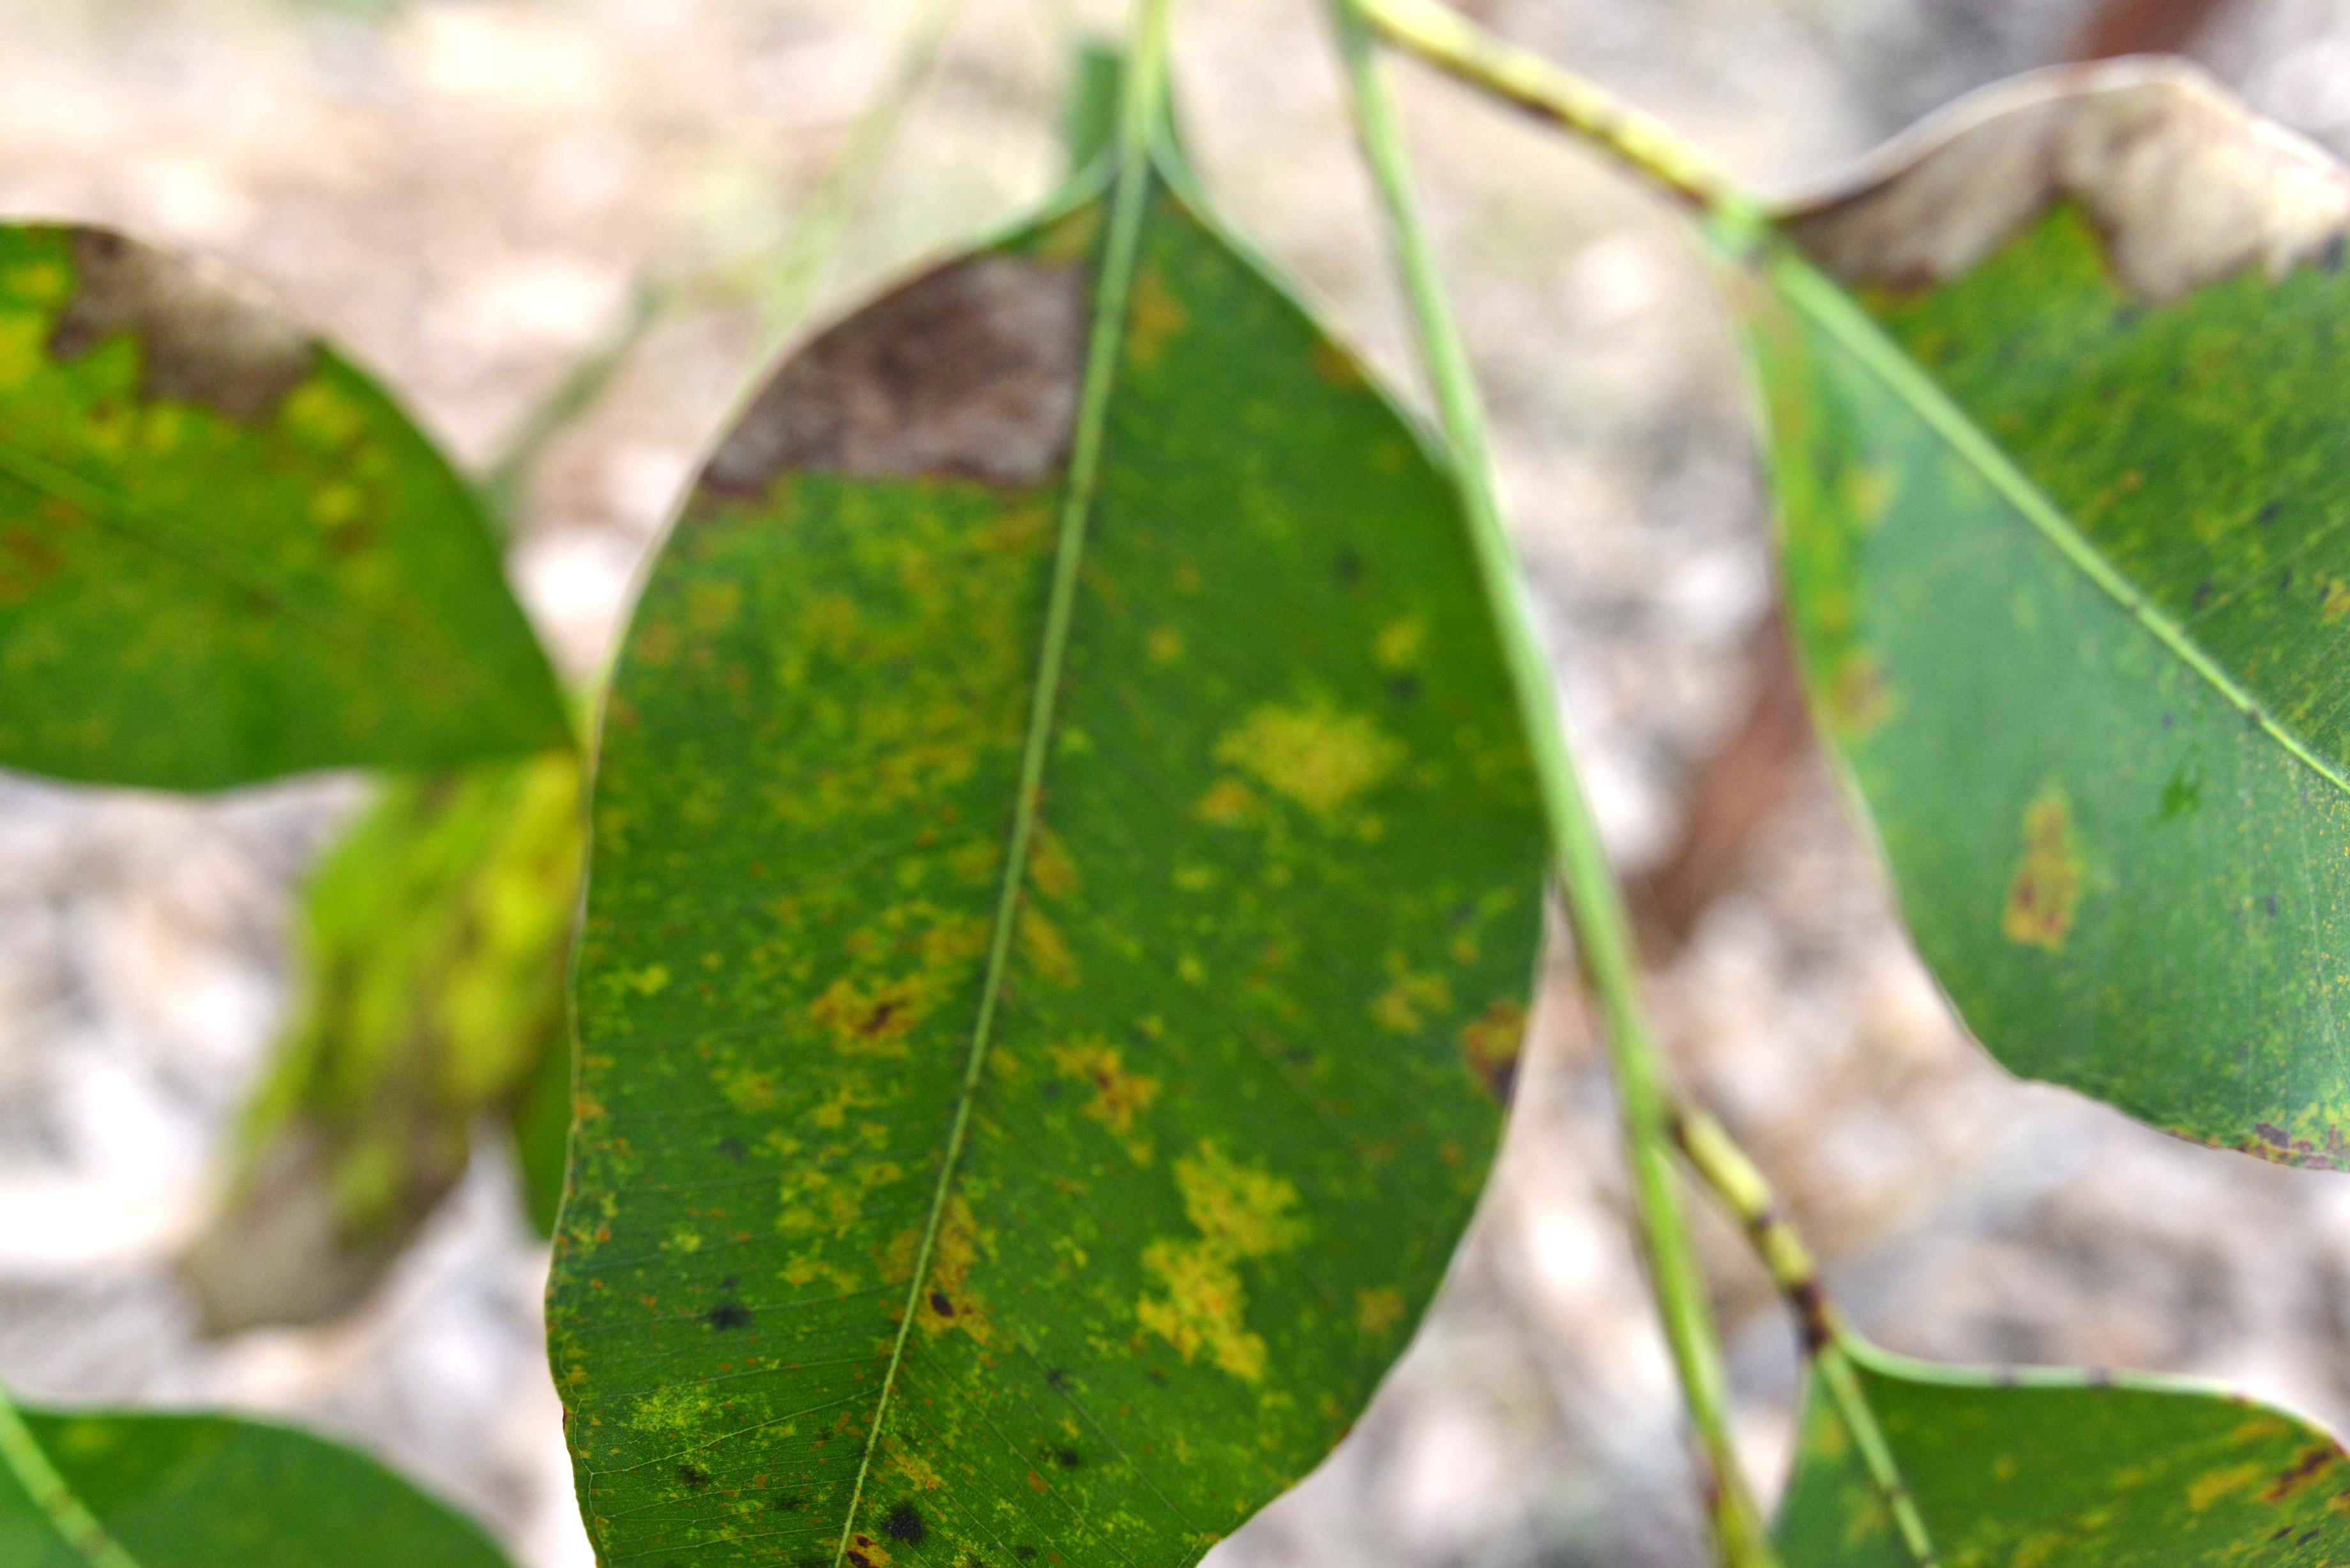Cylindrocladium: (1722, 52, 2350, 294), (667, 245, 1102, 500), (42, 205, 324, 432), (154, 1143, 373, 1332)
